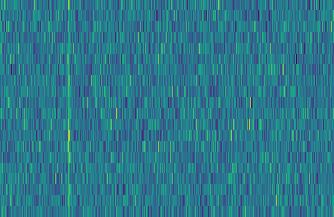signal: (61, 0, 70, 217)
